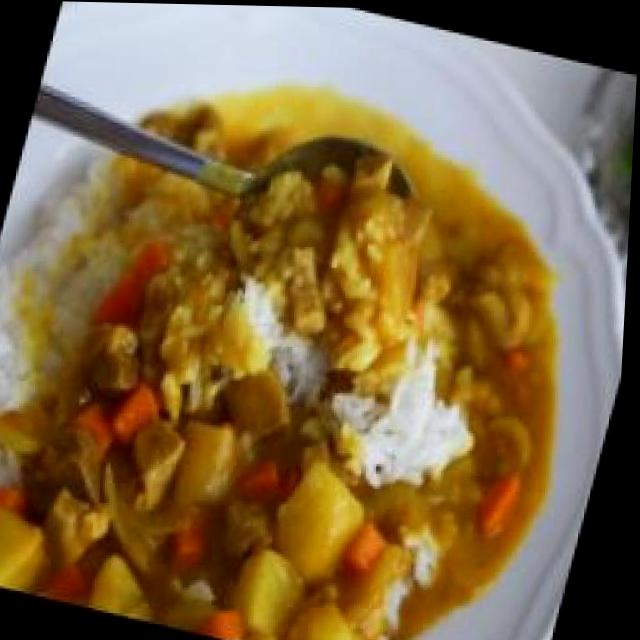curry: (0, 52, 556, 640)
